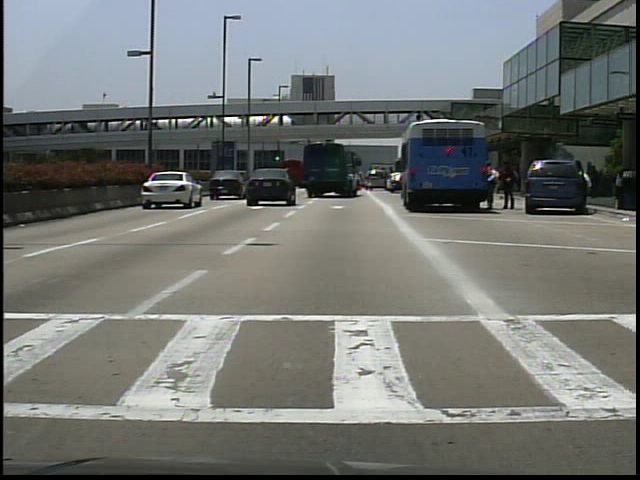person: (485, 158, 503, 211), (501, 160, 518, 210), (580, 166, 596, 205)
